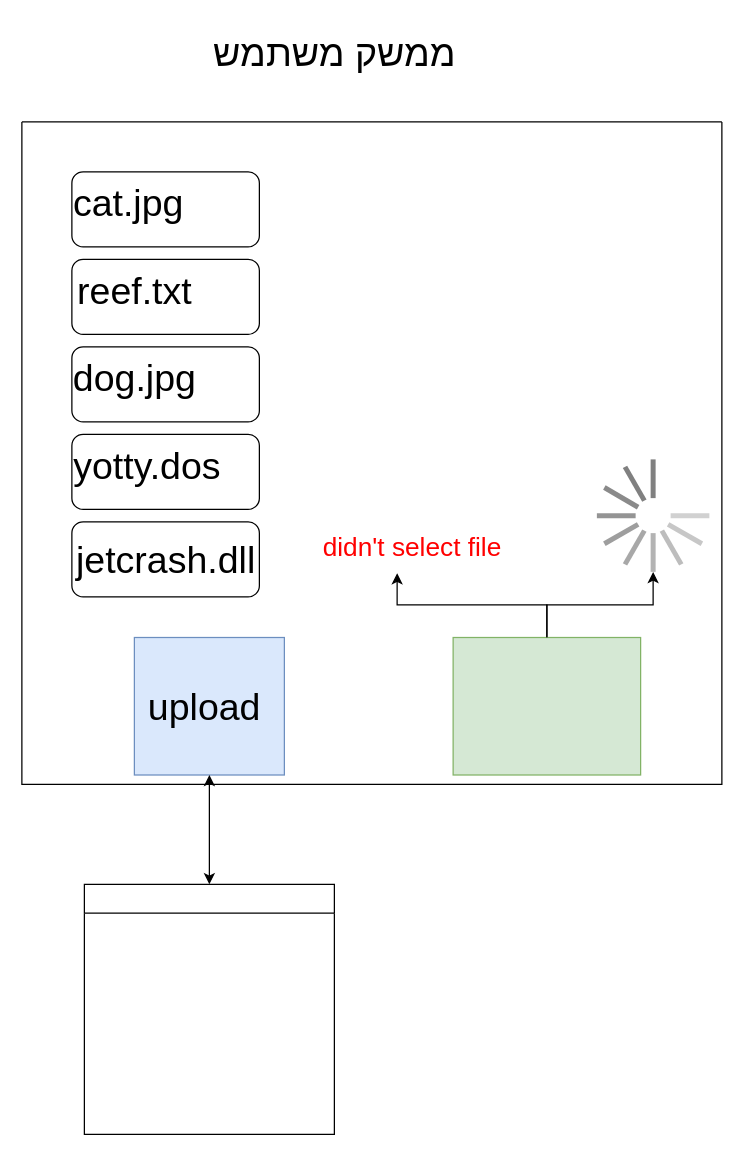
Image size: 744x1156. Some labels were removed from this diagram. Each missing label, with the centre of its shape:
download: the point at 546,705
file system: the point at 208,1008
